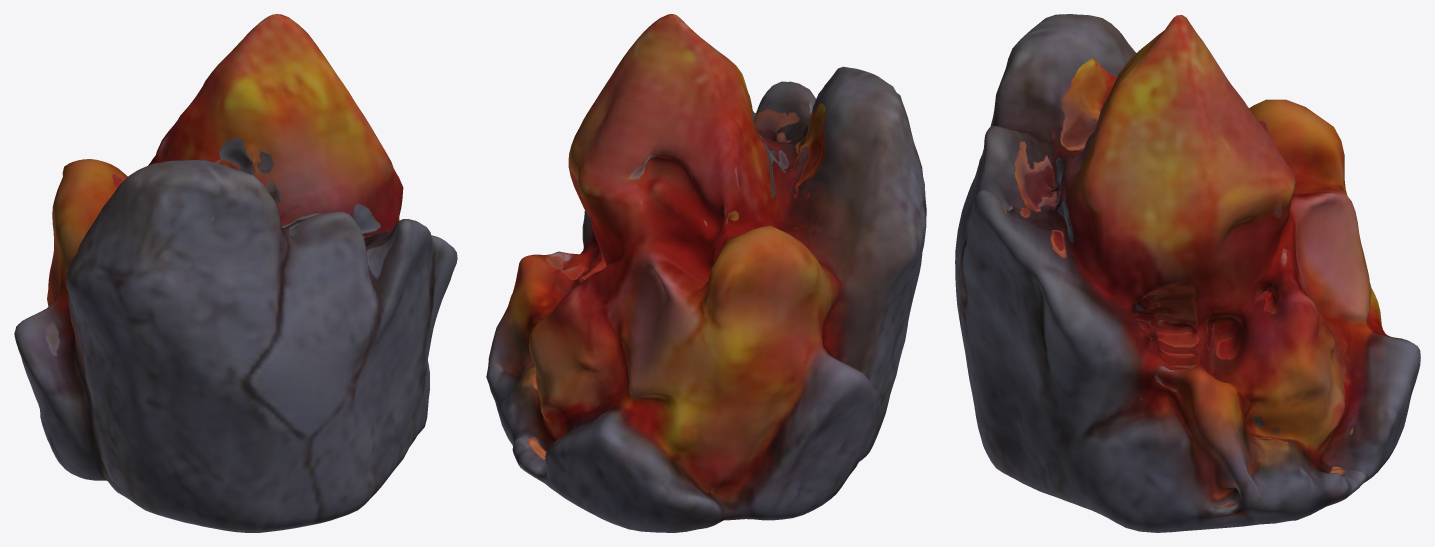
File: 5f37159520bf_A_magical_geode_bro.fbx
3 renders of one model, left to right at view 1: azimuth 30°, elevation 25°; view 2: azimuth 150°, elevation 25°; view 3: azimuth 270°, elevation 25°, orthographic. The views are drawn at different scales.
Visible parts, largest first — view 1: mesh; view 2: mesh; view 3: mesh.
Part boxes in pixels (x1,y1,x2,y2): mesh: (14,14,457,532); mesh: (486,14,926,532); mesh: (955,14,1420,532).
Bounding box in the file's own units: 90.16 × 99.29 × 89.97.
